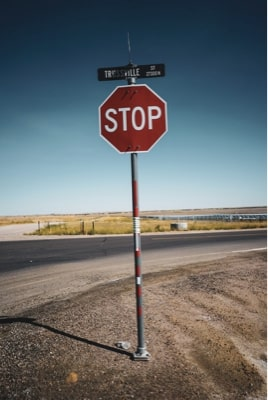StopSign: (97, 82, 170, 155)
